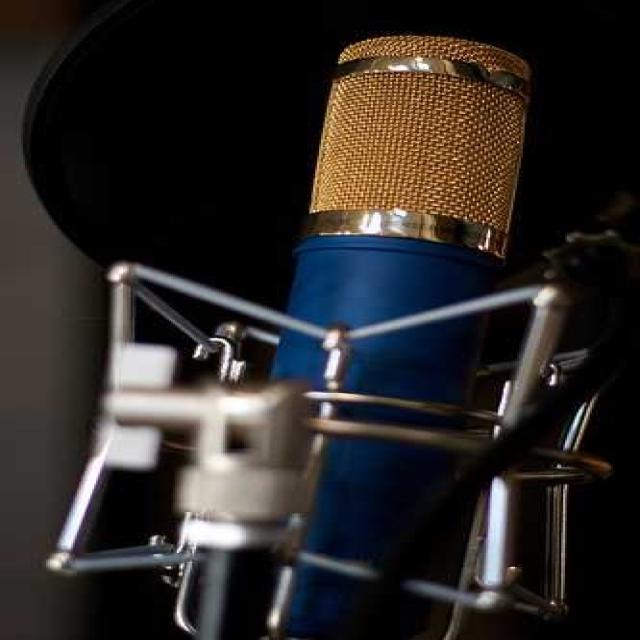microphone: (257, 42, 529, 628)
